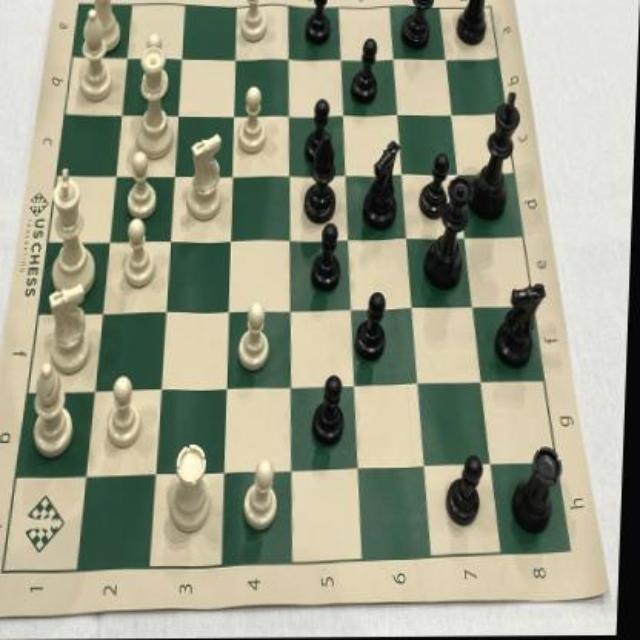black-bishop: (298, 134, 342, 230), (401, 0, 437, 52)
black-king: (472, 88, 524, 223)
black-knight: (498, 283, 550, 370), (363, 137, 403, 232)
black-pawn: (312, 370, 352, 450), (448, 451, 488, 527), (356, 289, 391, 365), (304, 98, 337, 171), (313, 221, 345, 293), (420, 152, 450, 224), (350, 37, 380, 107), (304, 0, 334, 47)
black-queen: (428, 175, 476, 290)
black-rook: (512, 442, 567, 537), (454, 0, 494, 50)
white-bishop: (30, 363, 79, 459), (76, 9, 117, 102)
white-king: (50, 166, 102, 299)
white-knight: (43, 283, 98, 373), (185, 131, 227, 224)
white-pawn: (242, 456, 283, 534), (108, 375, 146, 451), (121, 219, 161, 289), (238, 299, 274, 374), (127, 152, 163, 221), (236, 84, 269, 154), (143, 33, 173, 97), (237, 0, 270, 47)
white-queen: (129, 48, 181, 161)
white-rook: (169, 440, 218, 536), (87, 0, 122, 58)
